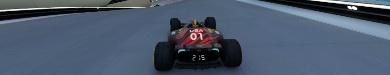Car: (152, 16, 242, 70)
curve: (0, 0, 389, 74)
